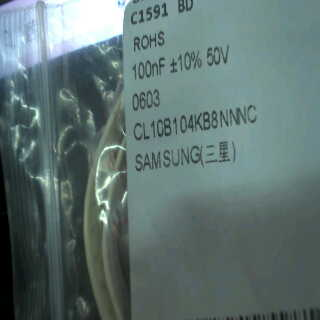100nF: (127, 51, 168, 86)
